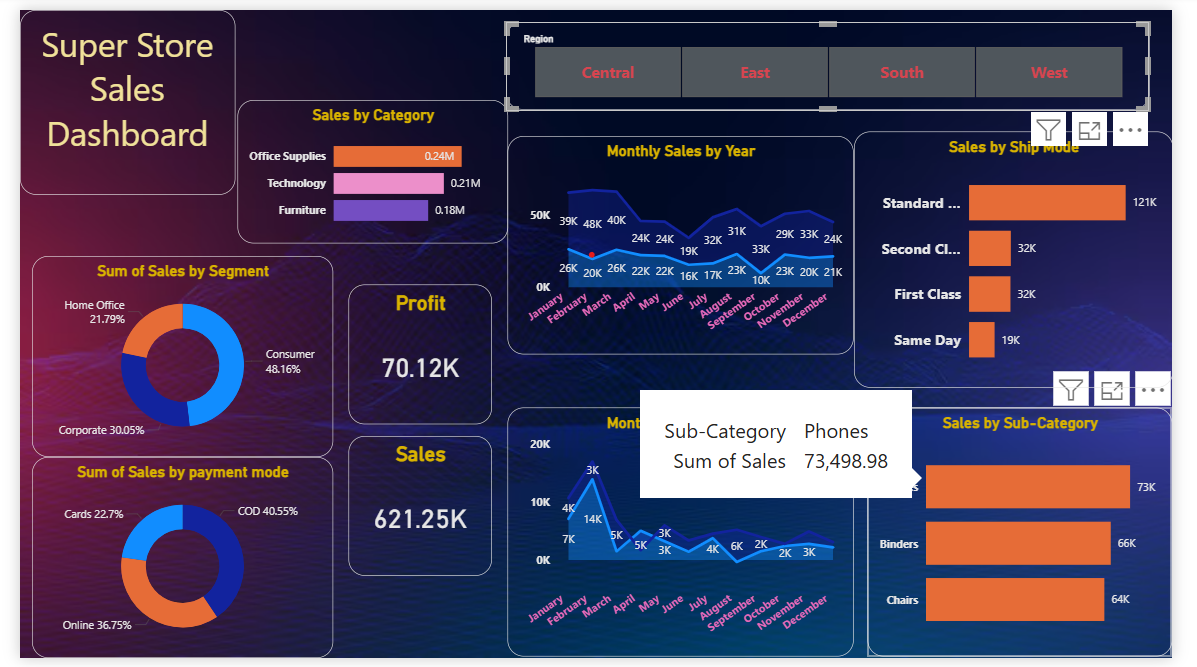

What the dashboard file says about the page in this screenshot:
{"tool":"powerbi","page":{"name":"Page 1","canvas":[1280,720],"ordinal":0},"visuals":[{"type":"clusteredBarChart","title":"Sales by Category","fields":{"Category":["SuperStore_Sales_Dataset project (2).Category"],"Y":["Sum(SuperStore_Sales_Dataset project (2).Sales)"]},"box":[241,99.6,300.8,159.3],"z":0},{"type":"clusteredBarChart","title":"Sales by Sub-Category","fields":{"Category":["SuperStore_Sales_Dataset project (2).Sub-Category"],"Y":["Sum(SuperStore_Sales_Dataset project (2).Sales)"]},"box":[942.1,442.2,338.6,276.9],"z":1000},{"type":"clusteredBarChart","title":"Sales by Ship Mode","fields":{"Category":["SuperStore_Sales_Dataset project (2).Ship Mode"],"Y":["Sum(SuperStore_Sales_Dataset project (2).Sales)"]},"box":[926.2,135.4,354.5,284.8],"z":2000},{"type":"stackedAreaChart","title":"Monthly Sales by Year","fields":{"Y":["Sum(SuperStore_Sales_Dataset project (2).Sales)"],"Category":["SuperStore_Sales_Dataset project (2).Order Date.Variation.Date Hierarchy.Month"],"Series":["SuperStore_Sales_Dataset project (2).Order Date.Variation.Date Hierarchy.Year"]},"box":[541.8,139.4,384.4,243],"z":3000},{"type":"stackedAreaChart","title":"Monthly Profit by Year","fields":{"Category":["SuperStore_Sales_Dataset project (2).Order Date.Variation.Date Hierarchy.Month"],"Series":["SuperStore_Sales_Dataset project (2).Order Date.Variation.Date Hierarchy.Year"],"Y":["Sum(SuperStore_Sales_Dataset project (2).Profit)"]},"box":[541.8,442.2,384.4,276.9],"z":4000},{"type":"donutChart","fields":{"Category":["SuperStore_Sales_Dataset project (2).Segment"],"Y":["Sum(SuperStore_Sales_Dataset project (2).Sales)"]},"box":[13.9,272.9,334.6,223.1],"z":5000},{"type":"slicer","fields":{"Values":["SuperStore_Sales_Dataset project (2).Region"]},"box":[539.8,13.9,715,97.6],"z":6000},{"type":"donutChart","title":"Sum of Sales by payment mode","fields":{"Category":["SuperStore_Sales_Dataset project (2).Payment Mode"],"Y":["Sum(SuperStore_Sales_Dataset project (2).Sales)"]},"box":[13.9,495.9,334.6,223.1],"z":7000},{"type":"textbox","box":[0,0,239,205.1],"z":8000},{"type":"card","title":"Profit","fields":{"Values":["Sum(SuperStore_Sales_Dataset project (2).Profit)"]},"box":[364.5,304.7,159.3,155.4],"z":9000},{"type":"card","title":"Sales","fields":{"Values":["Sum(SuperStore_Sales_Dataset project (2).Sales)"]},"box":[364.5,474,159.3,155.4],"z":10000}]}

Visuals, with their boxes in screenshot pixels (x1, y1, x2, y2), scaled from the page's 1280x720 canvas onto the 1197x667 screenshot:
"Sales by Category" clusteredBarChart: box=[225, 92, 507, 240]
"Sales by Sub-Category" clusteredBarChart: box=[881, 410, 1196, 666]
"Sales by Ship Mode" clusteredBarChart: box=[866, 125, 1196, 389]
"Monthly Sales by Year" stackedAreaChart: box=[507, 129, 866, 354]
"Monthly Profit by Year" stackedAreaChart: box=[507, 410, 866, 666]
donutChart - SuperStore_Sales_Dataset project (2).Segment x Sum(SuperStore_Sales_Dataset project (2).Sales): box=[13, 253, 326, 459]
slicer - SuperStore_Sales_Dataset project (2).Region: box=[505, 13, 1173, 103]
"Sum of Sales by payment mode" donutChart: box=[13, 459, 326, 666]
textbox: box=[0, 0, 224, 190]
"Profit" card: box=[341, 282, 490, 426]
"Sales" card: box=[341, 439, 490, 583]
